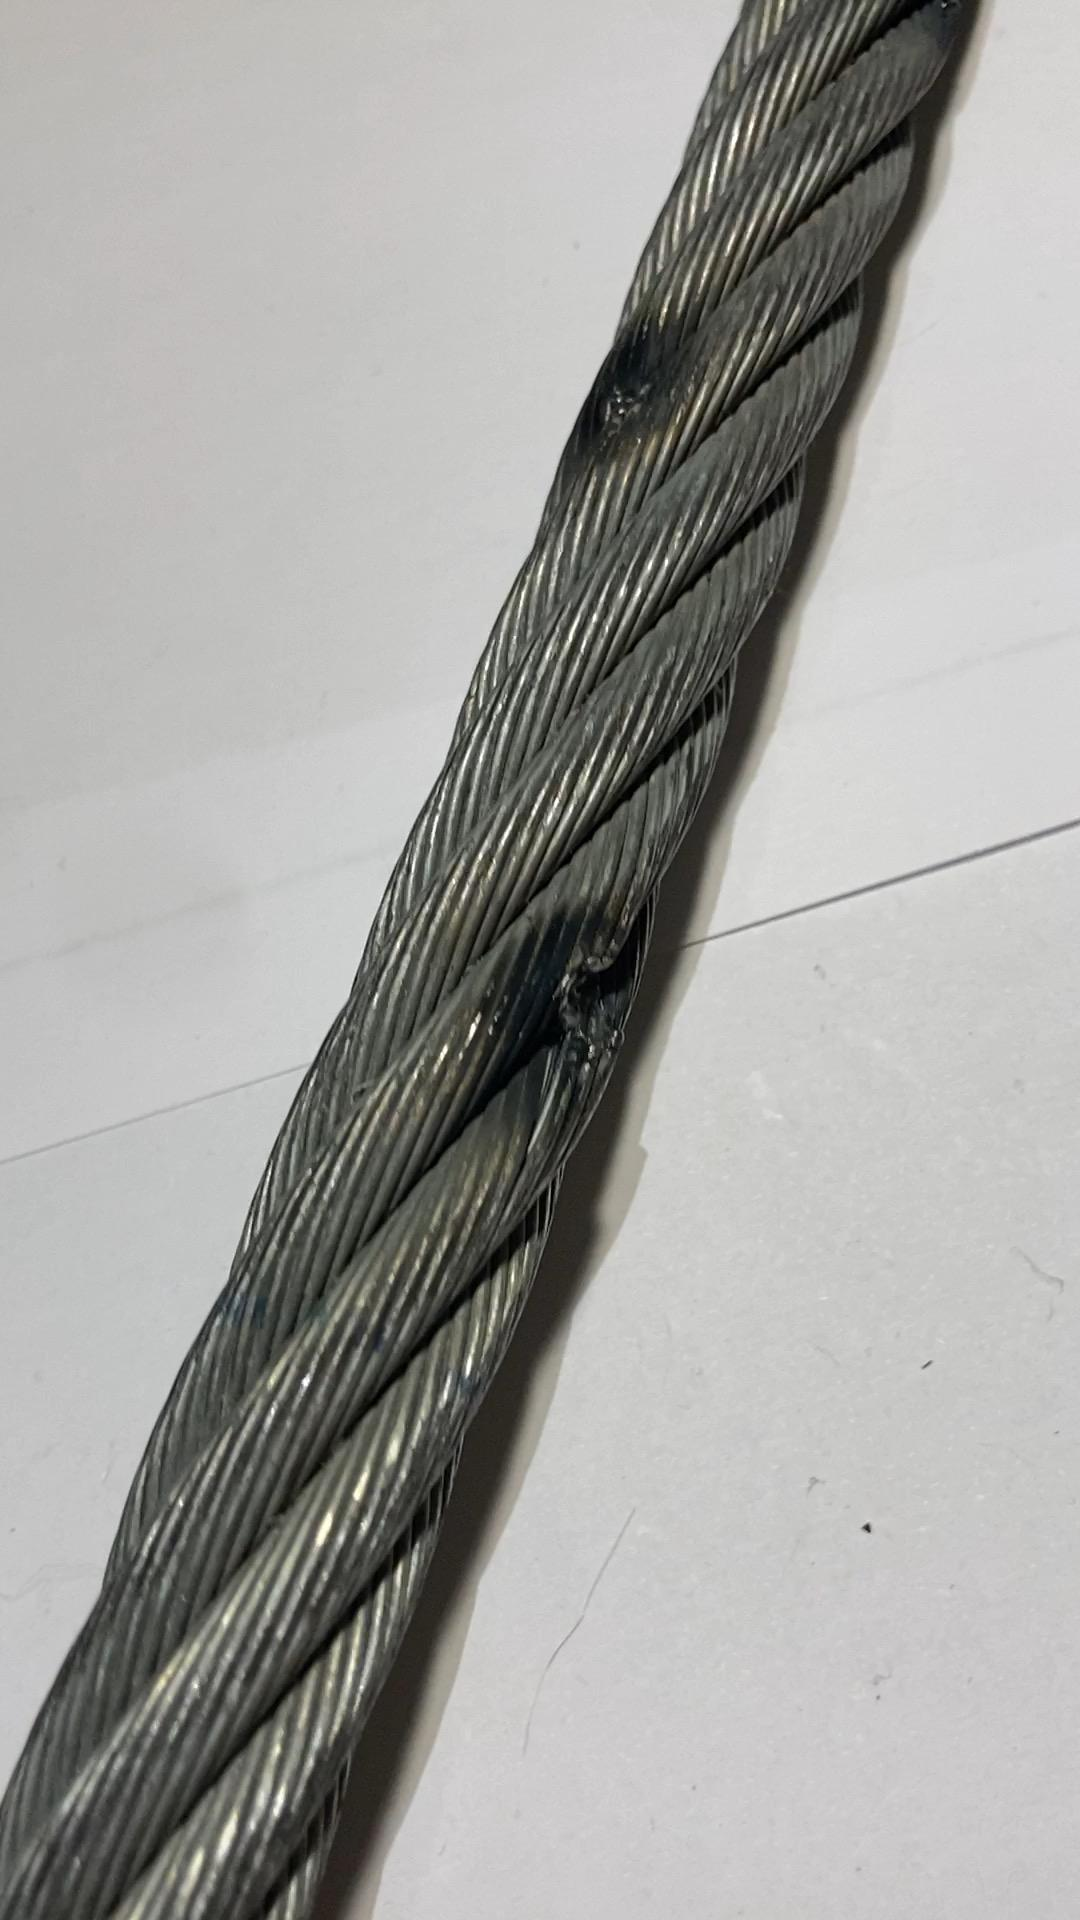thunderbolt: (546, 815, 712, 1125), (566, 301, 717, 491)
